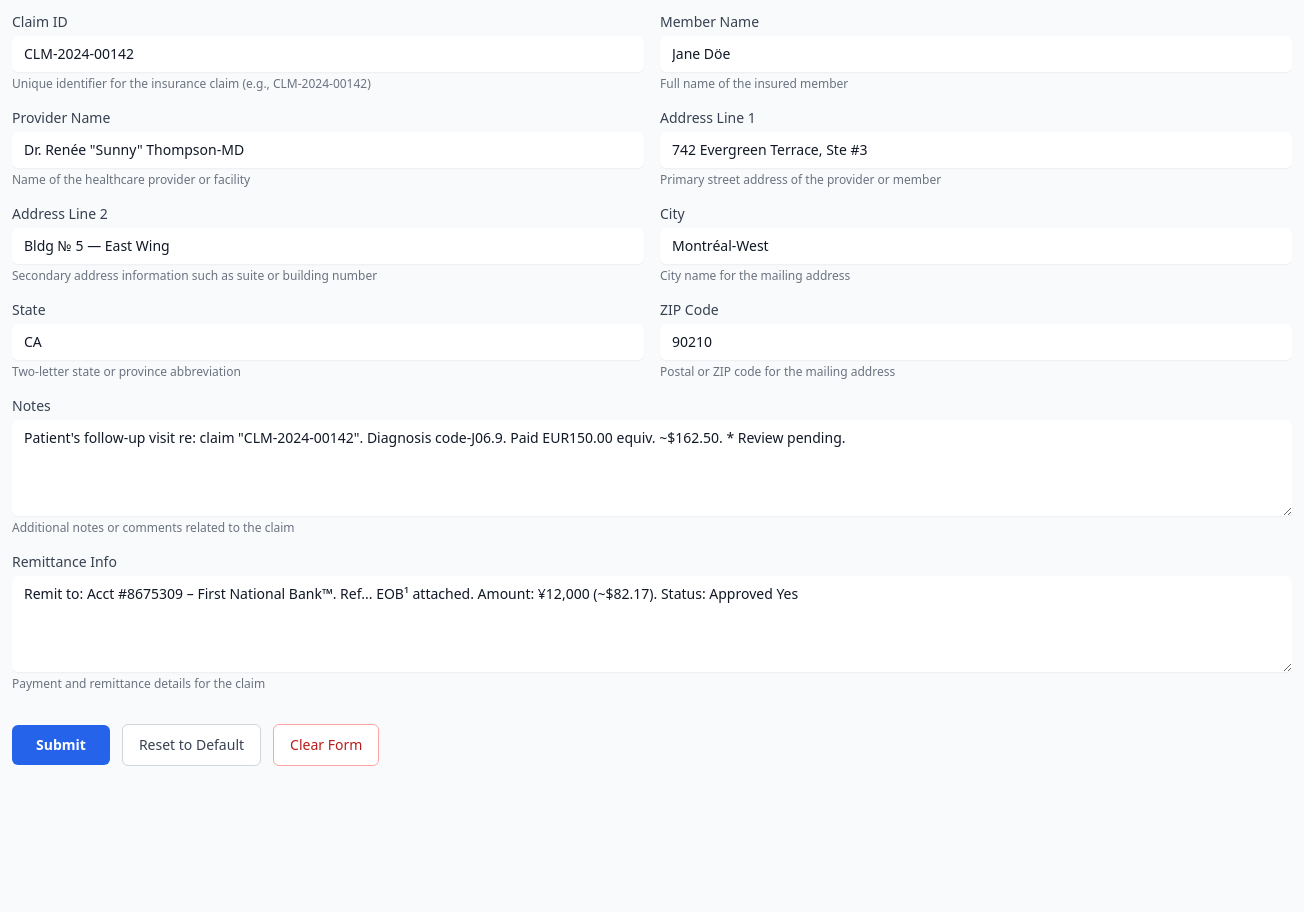
Test case: DemoForm › submission without validation (Screen A) › shows status code 200 and Validation Disabled when validation is off
Click the button "Submit" at (61, 745), box [12, 725, 110, 765]
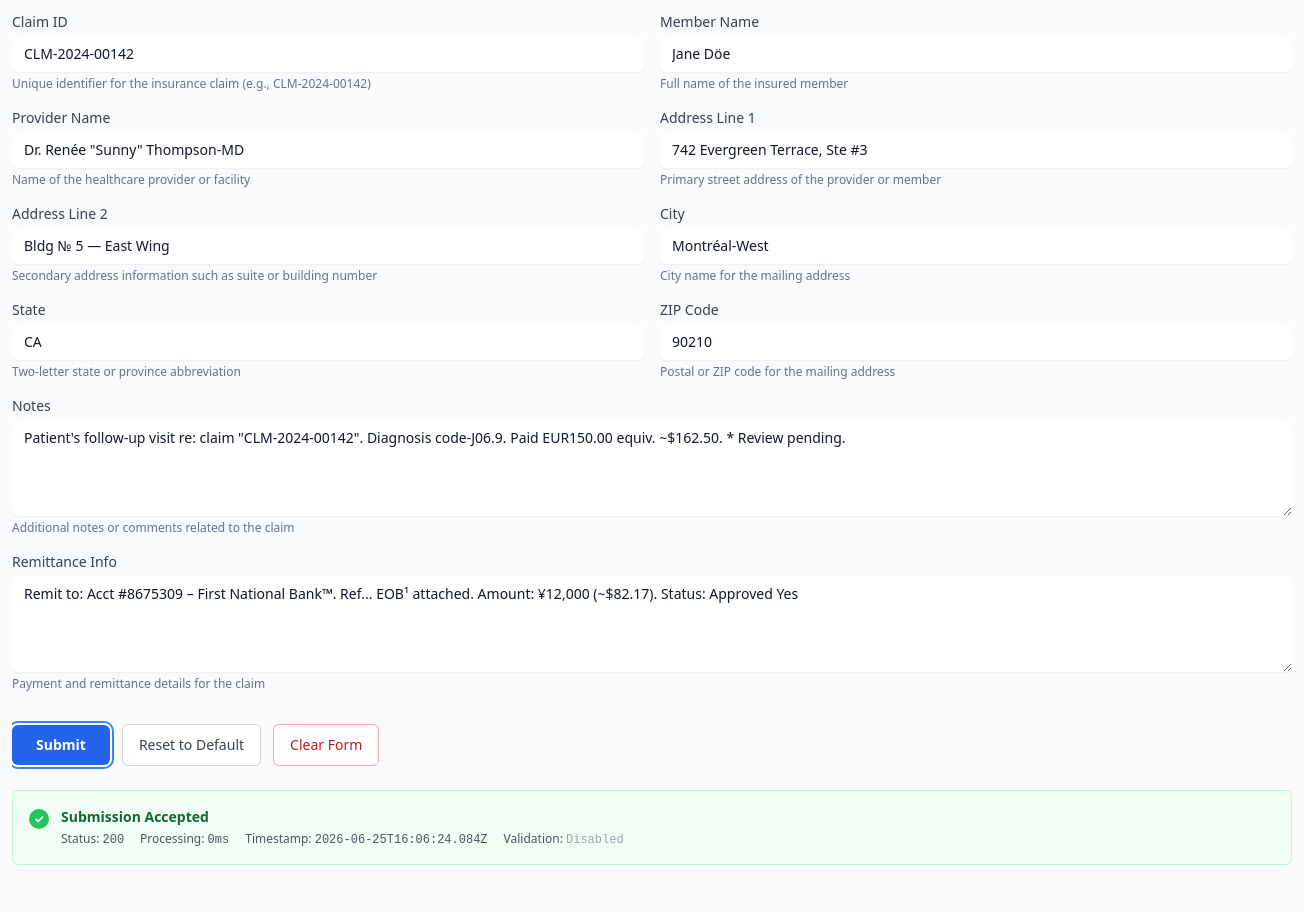
Now the message shows "200", box [102, 833, 124, 847]
Now the message shows "Disabled", box [566, 833, 624, 847]
